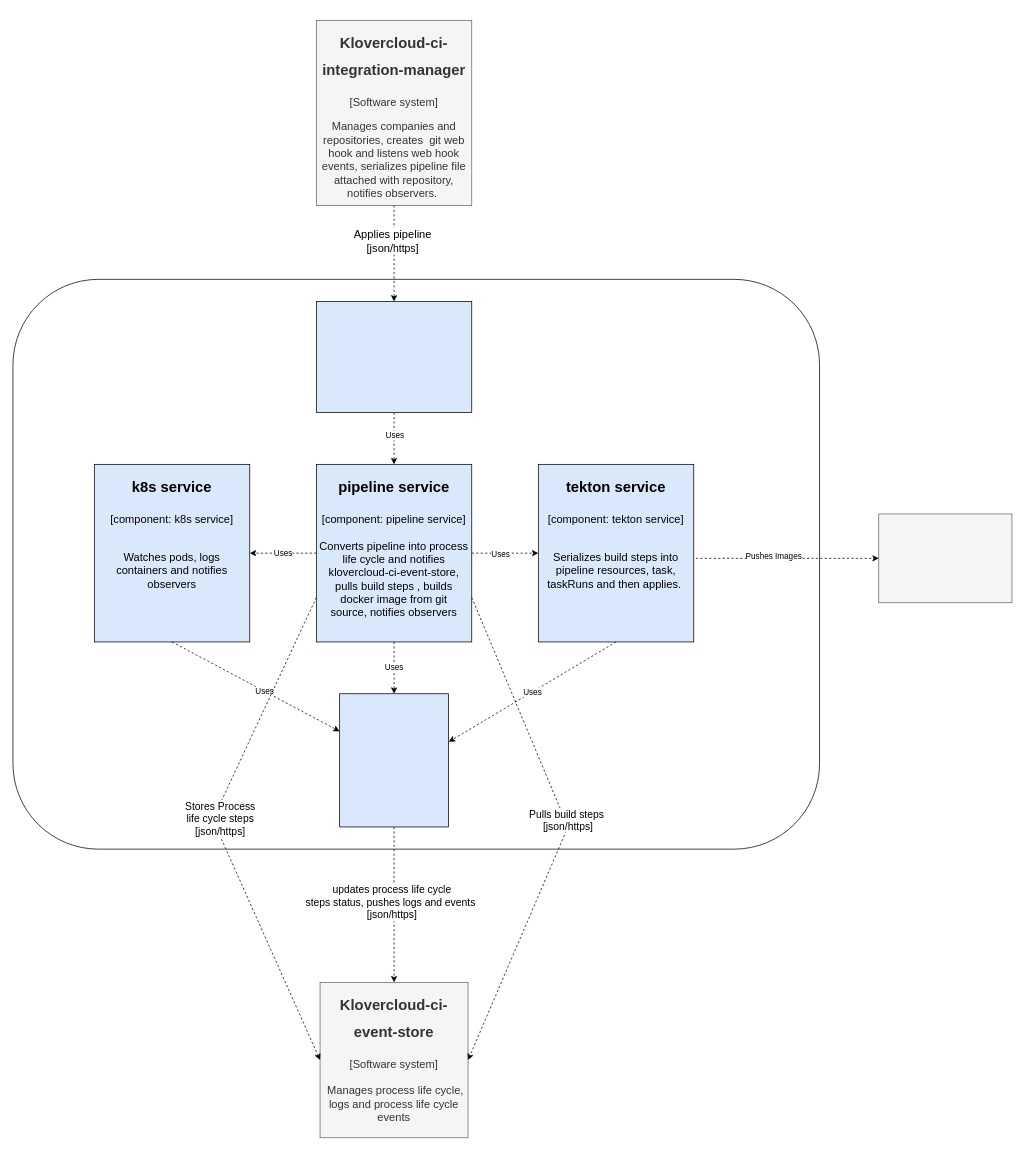
This 1025x1151 diagram has some shape labels left out. The centre of each missing label's shape, as x and y in pixels:
observer service [component: observer service] Listens and notifies: the point at 393,760
pipeline apis [component: pipeline api] Applies pipeline: the point at 394,357
registry [Software system]: the point at 945,558
